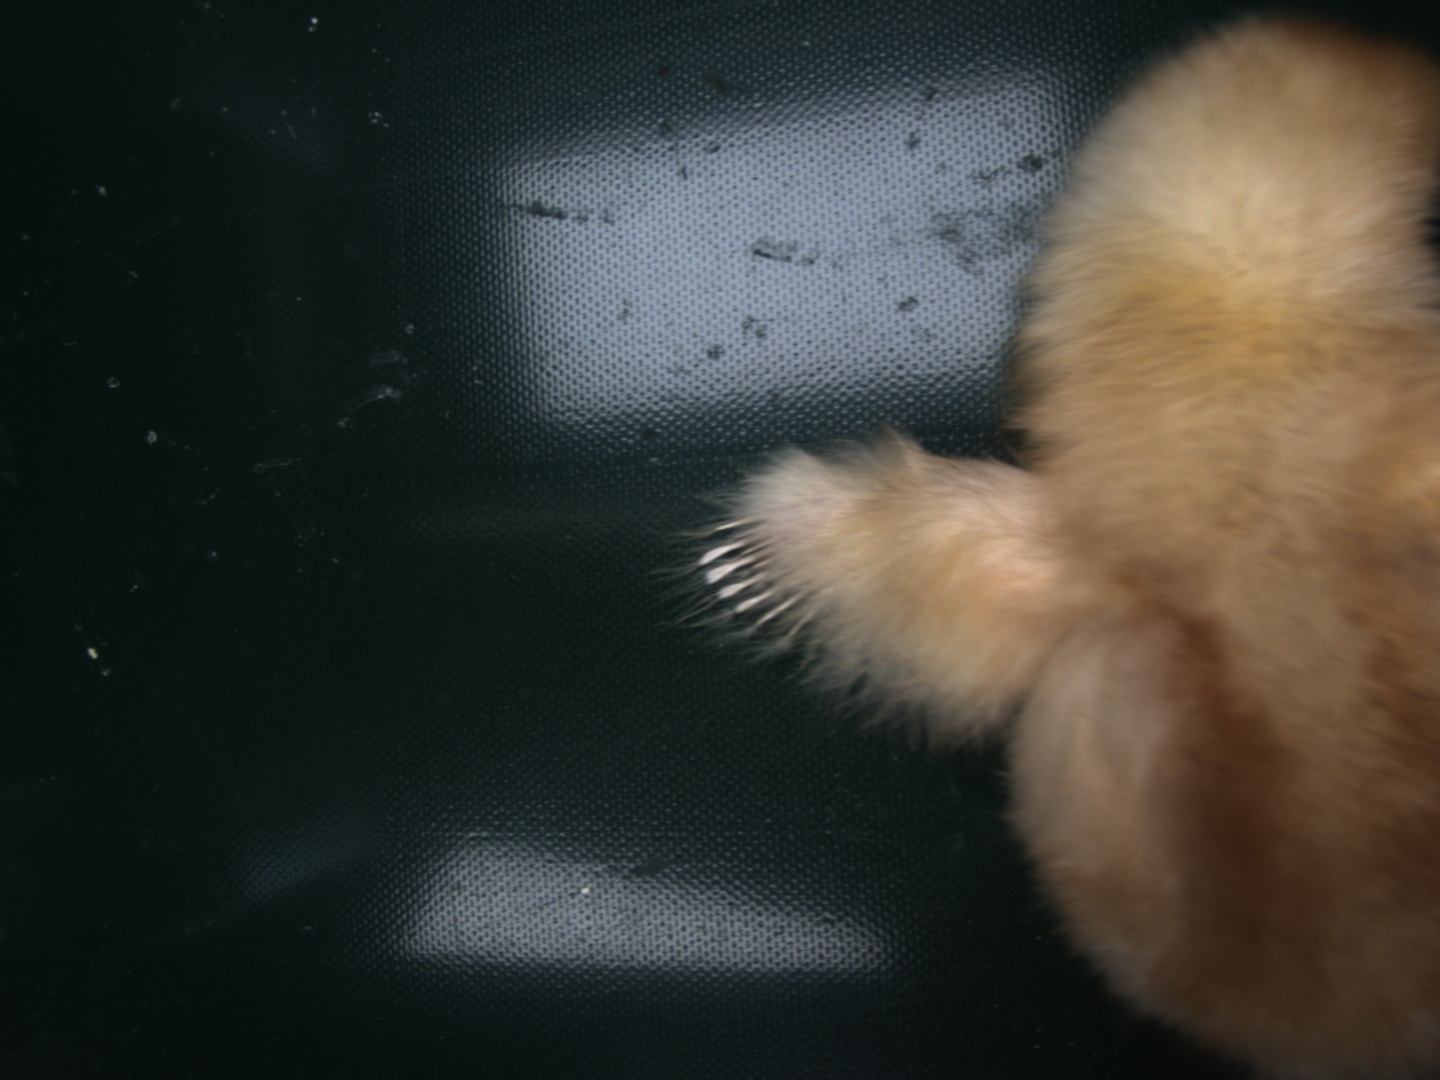female: (686, 507, 840, 647)
